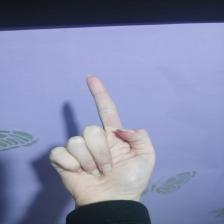one: (50, 75, 157, 202)
